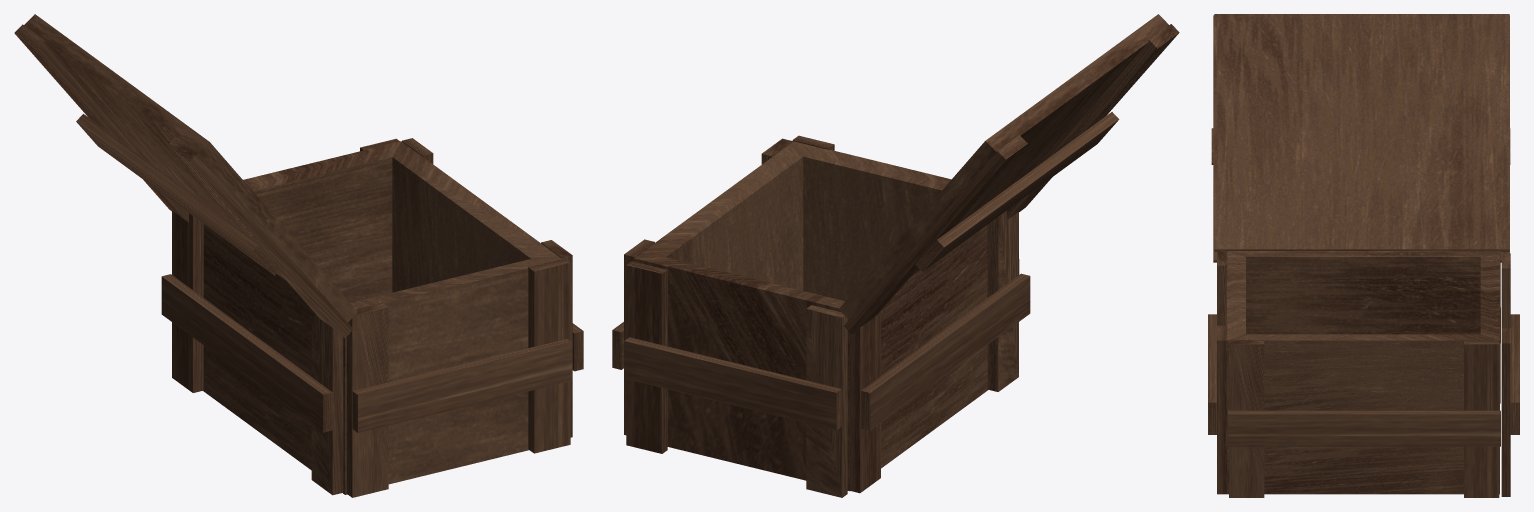
The model's file is hopgo2.fbx.
The picture shows the model from 3 angles, left to right: view 1: azimuth 30°, elevation 25°; view 2: azimuth 150°, elevation 25°; view 3: azimuth 270°, elevation 25°; orthographic projection. The views are drawn at different scales.
Visible parts, largest first — view 1: HopGo; view 2: HopGo; view 3: HopGo.
Boxes of the visible parts, x1,y1,x2,y2 form: HopGo: [14, 14, 583, 497]; HopGo: [612, 14, 1179, 497]; HopGo: [1208, 14, 1519, 497].
Bounding box in the file's own units: 85.06 × 79.83 × 67.6.
